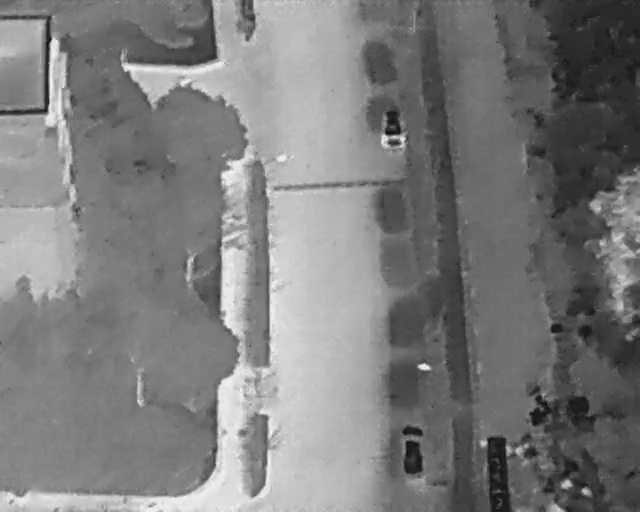Car: (401, 423, 425, 479), (380, 103, 407, 150)
